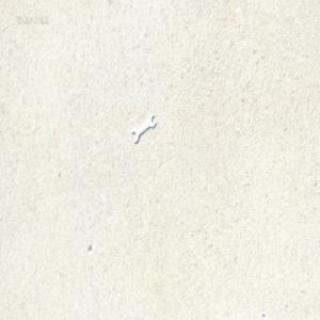Wrenchtrack_idkeyframe: (135, 112, 158, 142)
